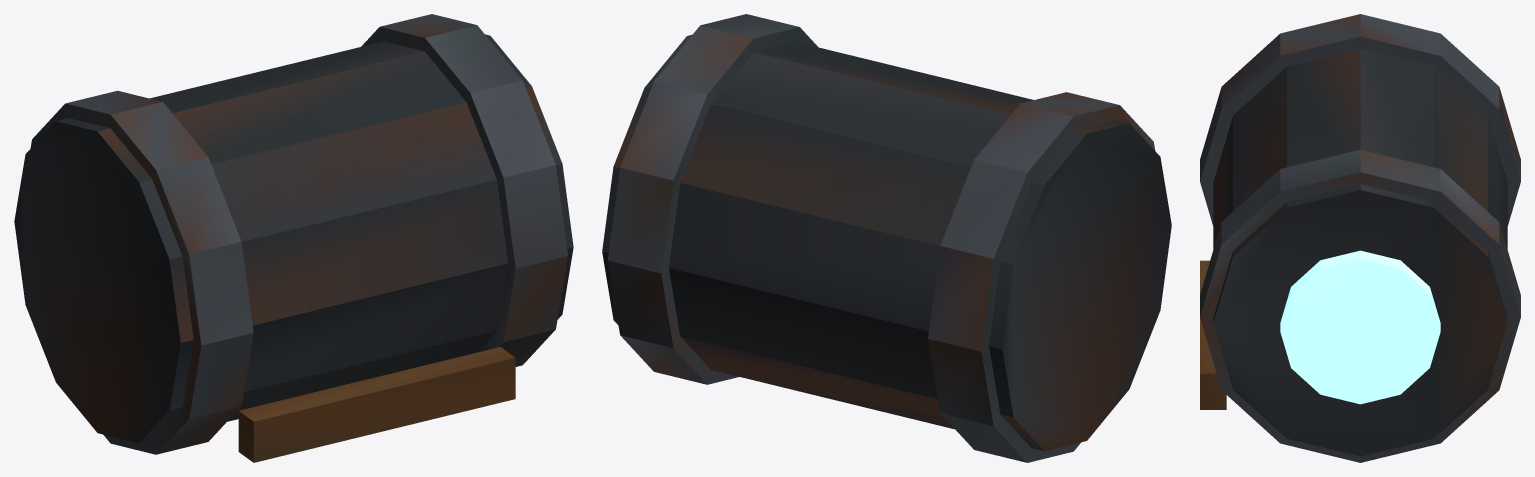
The model's file is engine.glb.
The picture shows the model from 3 angles, left to right: view 1: azimuth 30°, elevation 25°; view 2: azimuth 150°, elevation 25°; view 3: azimuth 270°, elevation 25°; orthographic projection. The views are drawn at different scales.
Parts seen in each view (by area): view 1: engine; view 2: engine; view 3: engine.
Boxes of the visible parts, x1,y1,x2,y2 form: engine: [14, 14, 573, 462]; engine: [602, 14, 1171, 462]; engine: [1200, 14, 1520, 462].
Size of the model in its own units: 63 by 48 by 48.
